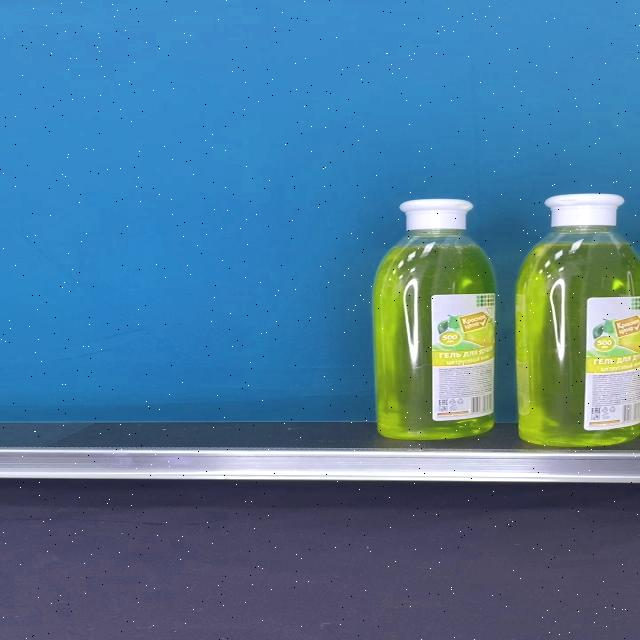Bottle: (514, 194, 640, 446), (372, 199, 497, 439)
Cap: (543, 194, 625, 227), (398, 199, 473, 229)
